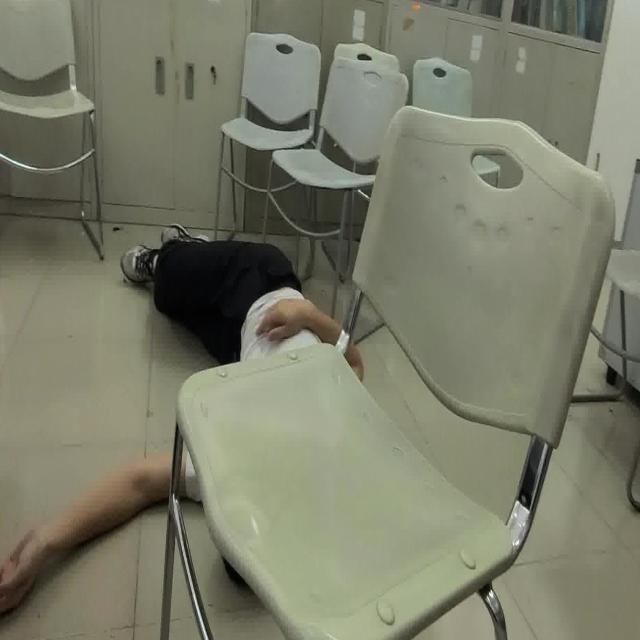fall: (0, 223, 356, 614)
